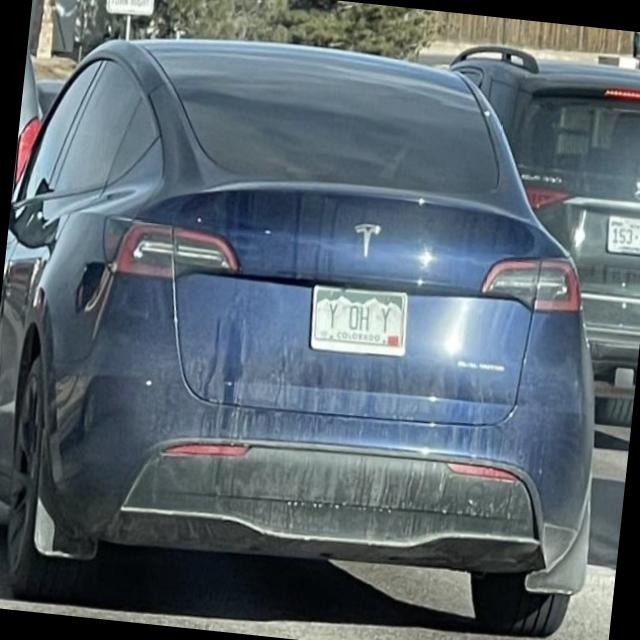LicensePlate: (309, 284, 408, 358)
